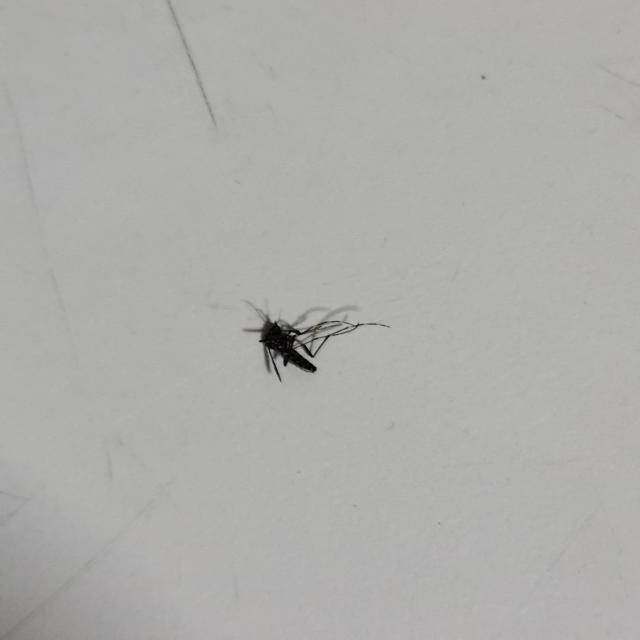albopictus: (234, 291, 391, 385)
